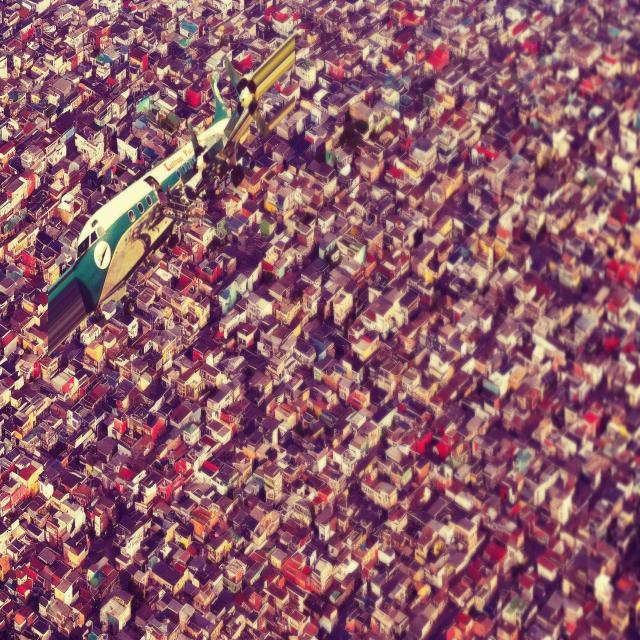airplane: (48, 34, 296, 354)
